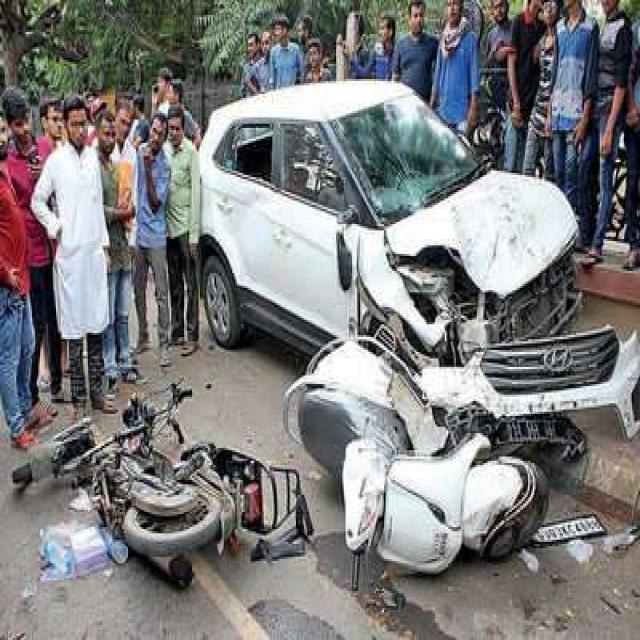accident: (200, 83, 640, 444), (286, 338, 548, 572), (12, 383, 309, 584)
